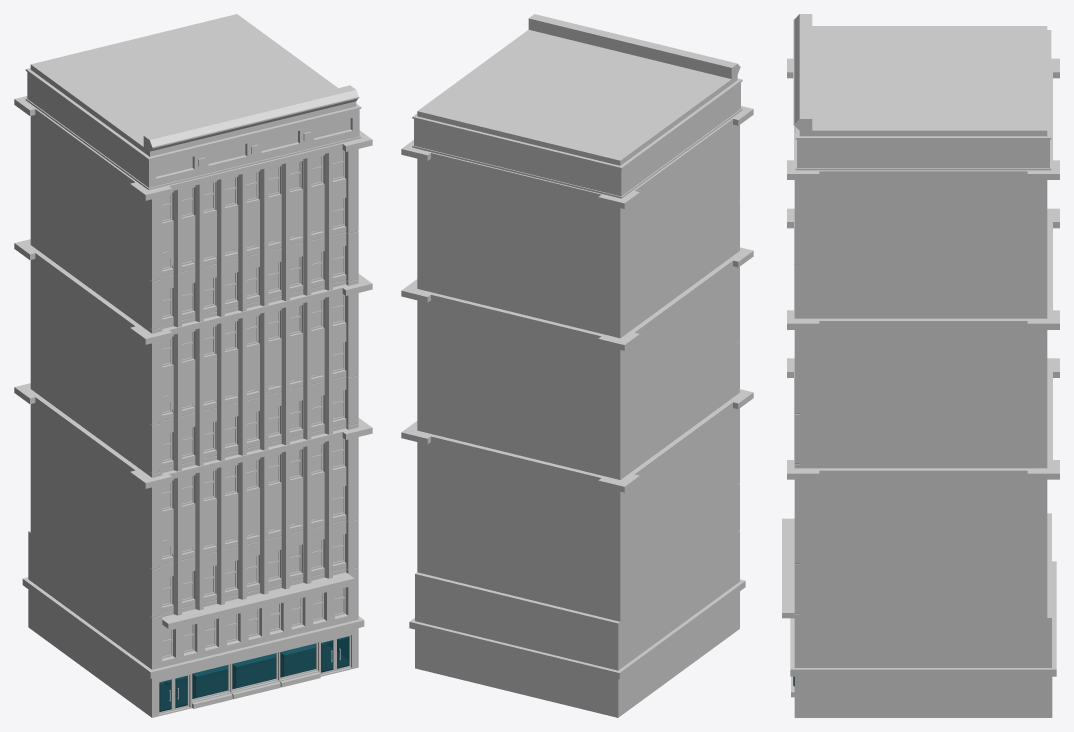
Rendered from building_office_01_large.fbx.
3 views of the same model, side by side, from view 1: azimuth 30°, elevation 25°; view 2: azimuth 150°, elevation 25°; view 3: azimuth 270°, elevation 25° (orthographic). The views are drawn at different scales.
Visible parts, largest first — view 1: building_office_01_large, building_office_01_floor_large_glass; view 2: building_office_01_large; view 3: building_office_01_large.
Part boxes in pixels (box(x1,y1,x2,y2)): building_office_01_large: box(14, 14, 372, 717); building_office_01_floor_large_glass: box(159, 636, 349, 711); building_office_01_large: box(401, 14, 753, 717); building_office_01_large: box(782, 14, 1059, 717).
Bounding box in the file's own units: 1979 × 4800 × 2017.
